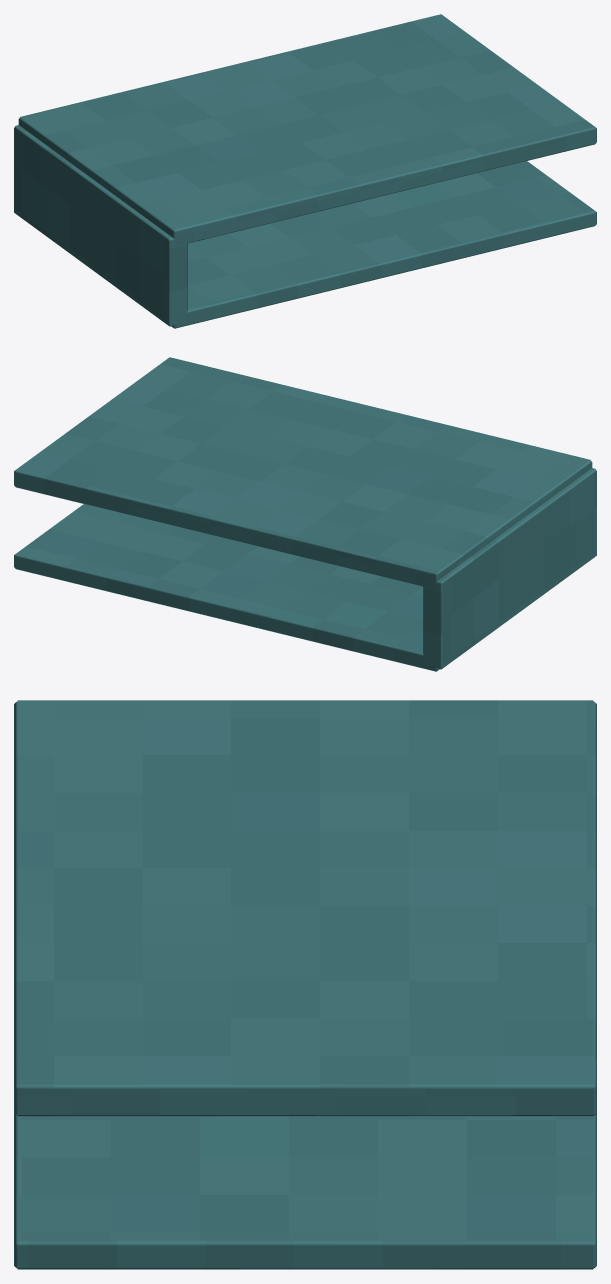
File: Linen-cover.glb
The picture shows the model from 3 angles, top to bottom: view 1: azimuth 30°, elevation 25°; view 2: azimuth 150°, elevation 25°; view 3: azimuth 270°, elevation 25°; orthographic projection. The views are drawn at different scales.
Parts seen in each view (by area): view 1: Linen-cover; view 2: Linen-cover; view 3: Linen-cover.
Boxes of the visible parts, x1,y1,x2,y2 form: Linen-cover: (14,14,596,328); Linen-cover: (14,357,596,671); Linen-cover: (14,700,596,1269).
Size of the model in its own units: 0.4065 by 0.09 by 0.256.
Materials: 1 (1 with a texture image).
